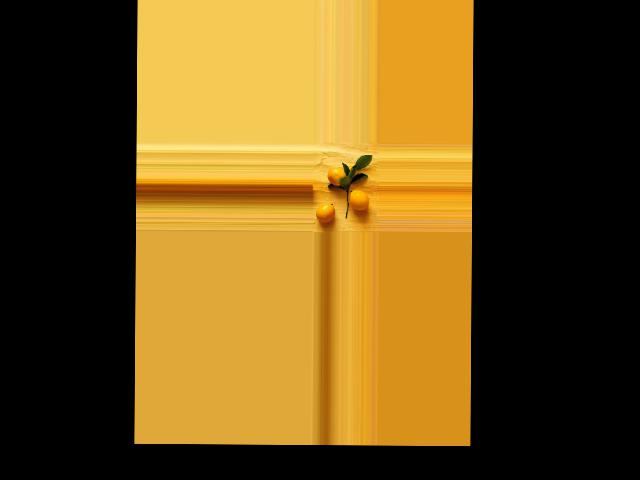lemon: (315, 201, 336, 226)
